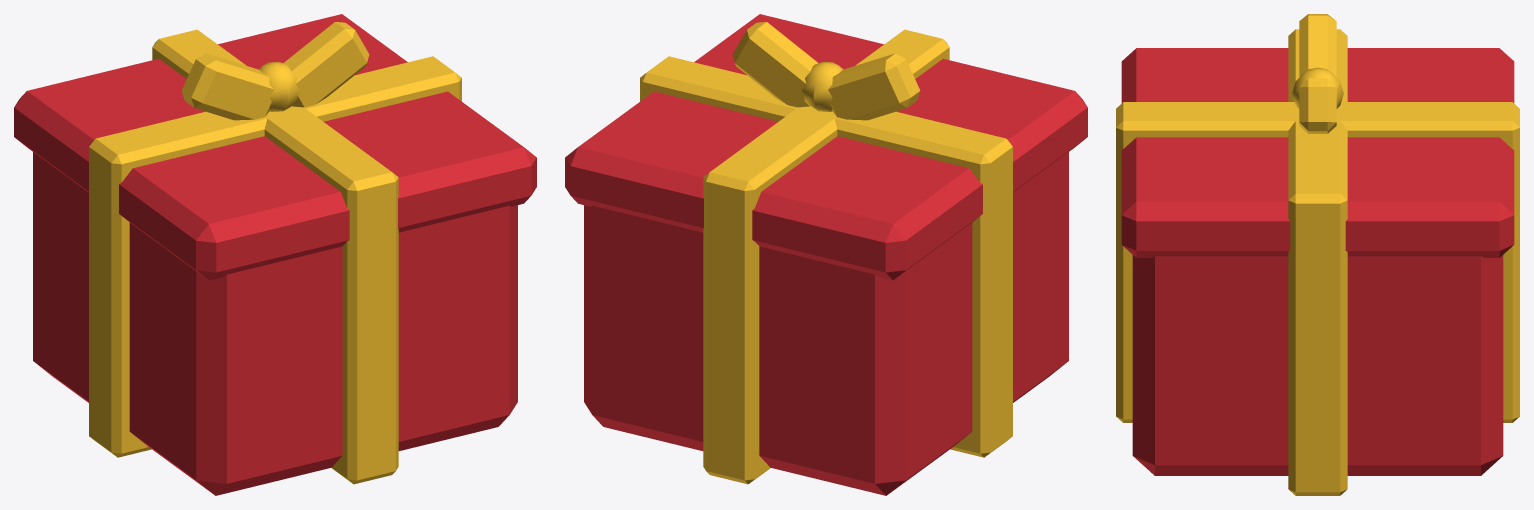
The model's file is prop_present_red.glb.
3 views of the same model, side by side, from view 1: azimuth 30°, elevation 25°; view 2: azimuth 150°, elevation 25°; view 3: azimuth 270°, elevation 25° (orthographic).
Parts seen in each view (by area): view 1: present_red; view 2: present_red; view 3: present_red.
Boxes of the visible parts, x1,y1,x2,y2 form: present_red: [14, 14, 536, 495]; present_red: [565, 14, 1087, 495]; present_red: [1116, 14, 1519, 495].
Size of the model in its own units: 0.545 by 0.5458 by 0.545.
Materials: 1 (1 with a texture image).
